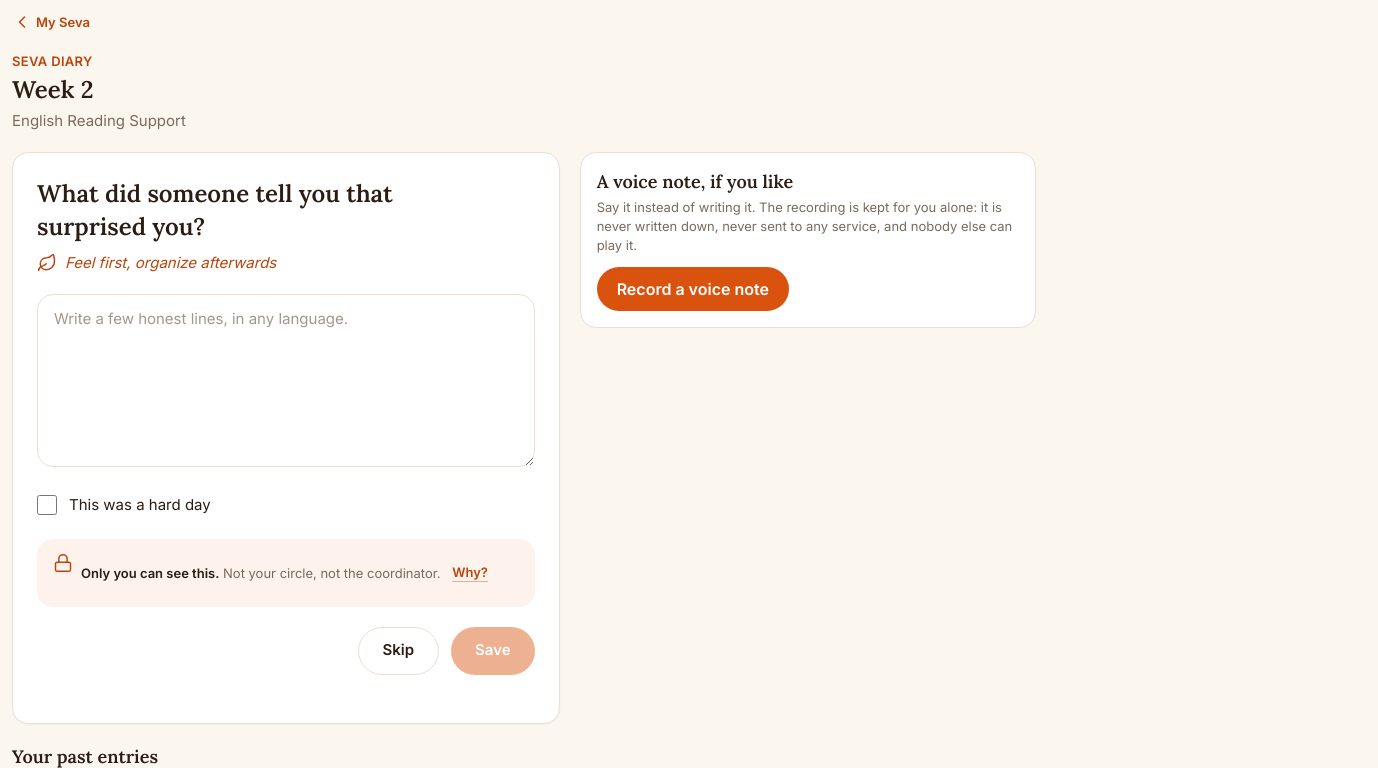
Test: Diary › a private voice note: recorded in the browser, posted only to /api/reflect/voice as bytes, played back from the same bytes
This screenshot has width=1378, height=768.
Expected: the text box named "Your answer" is shown, [37, 294, 535, 467]
Click the button "Record a voice note" at (693, 289), box [597, 267, 789, 311]
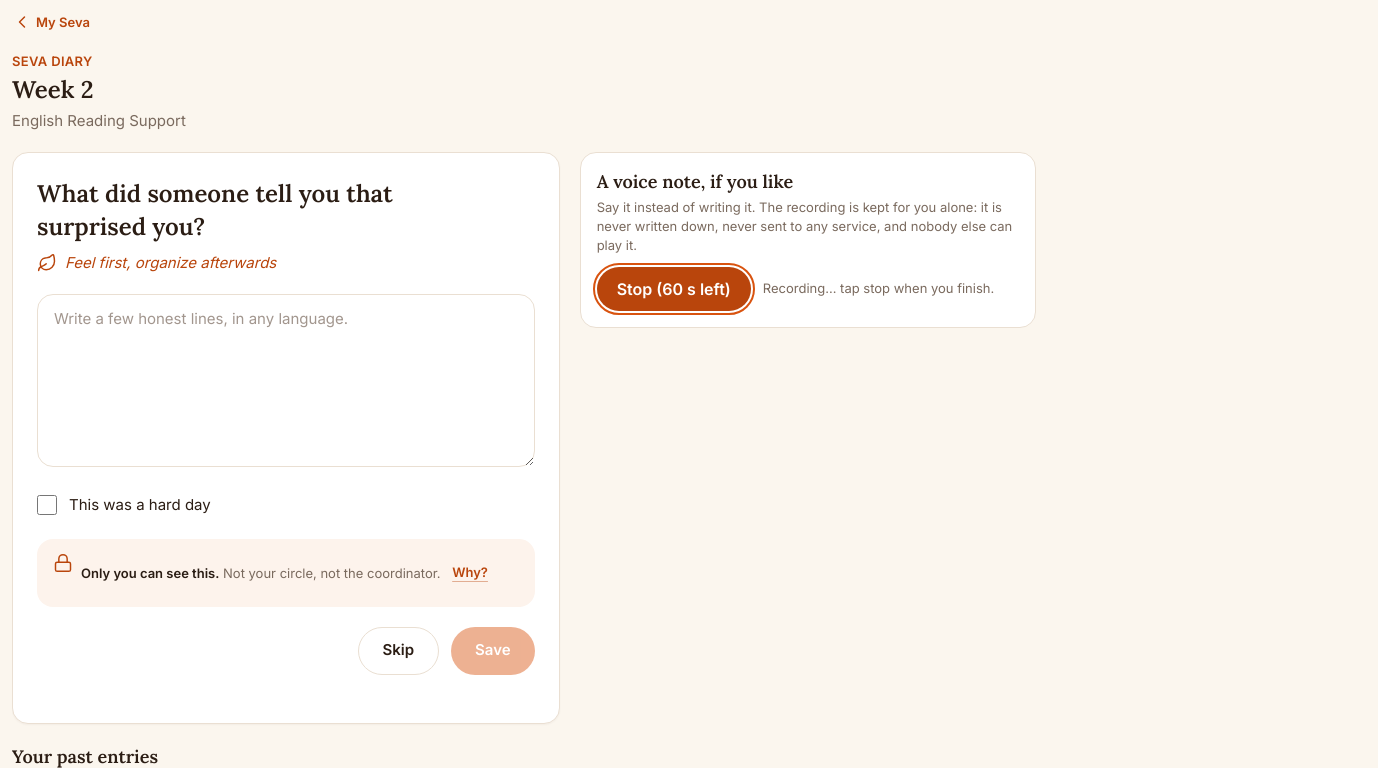
Now the button "Stop (60 s left)" is shown
Click the button "Stop (60 s left)" at (674, 289), box [597, 267, 751, 311]
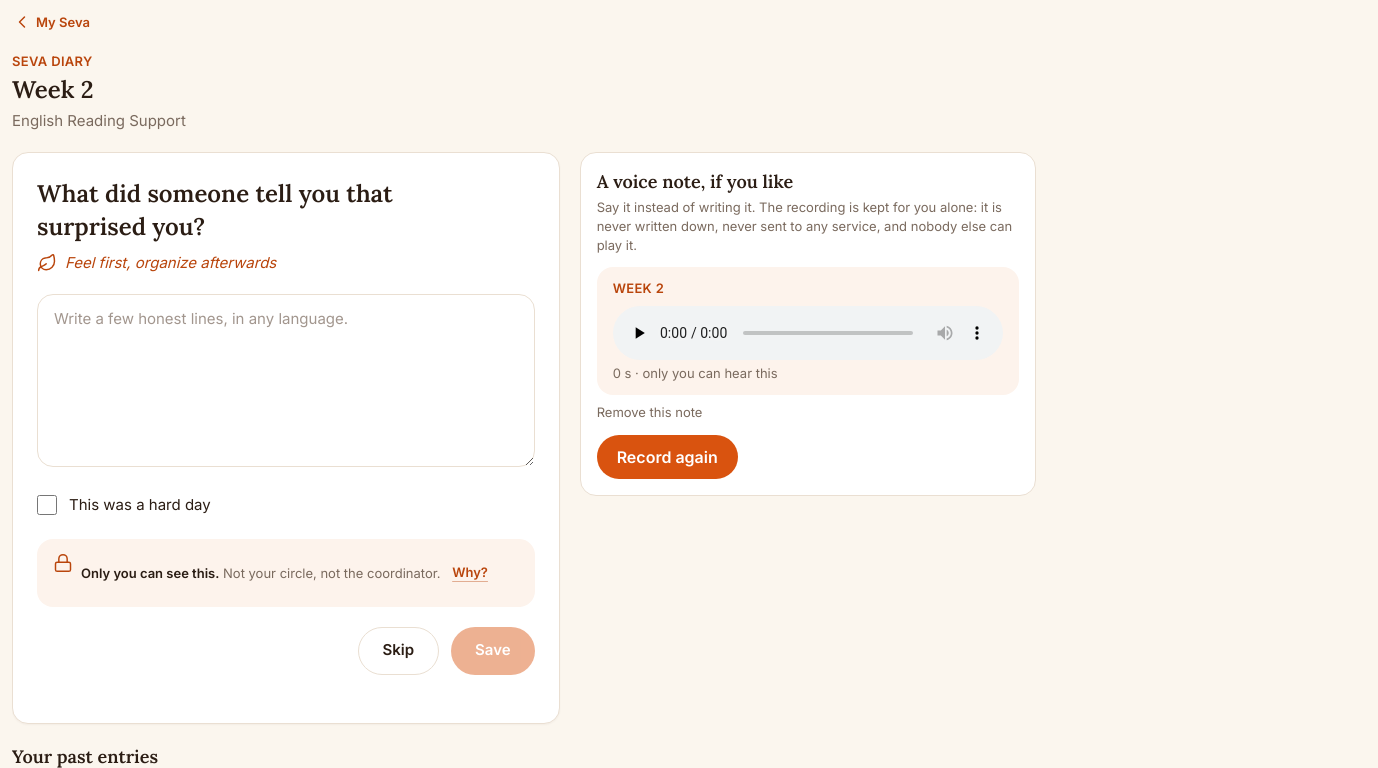
Now the element with test id "voice-note-player" is shown, box [597, 267, 1019, 394]
